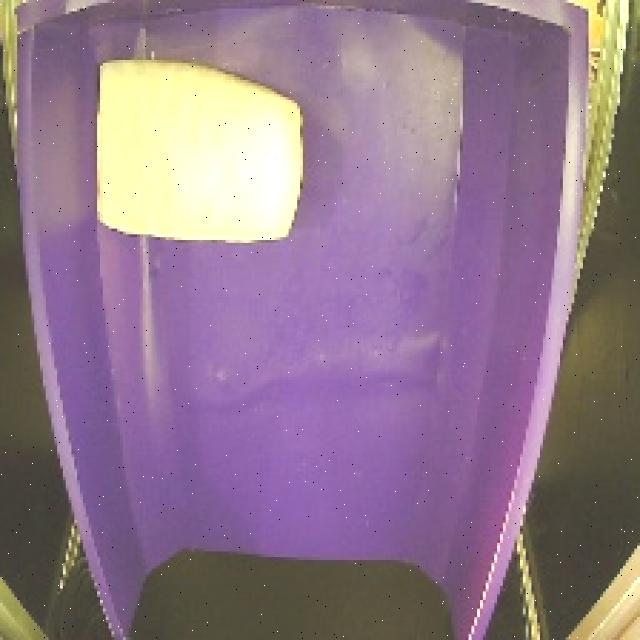white_radish: (79, 52, 316, 255)
